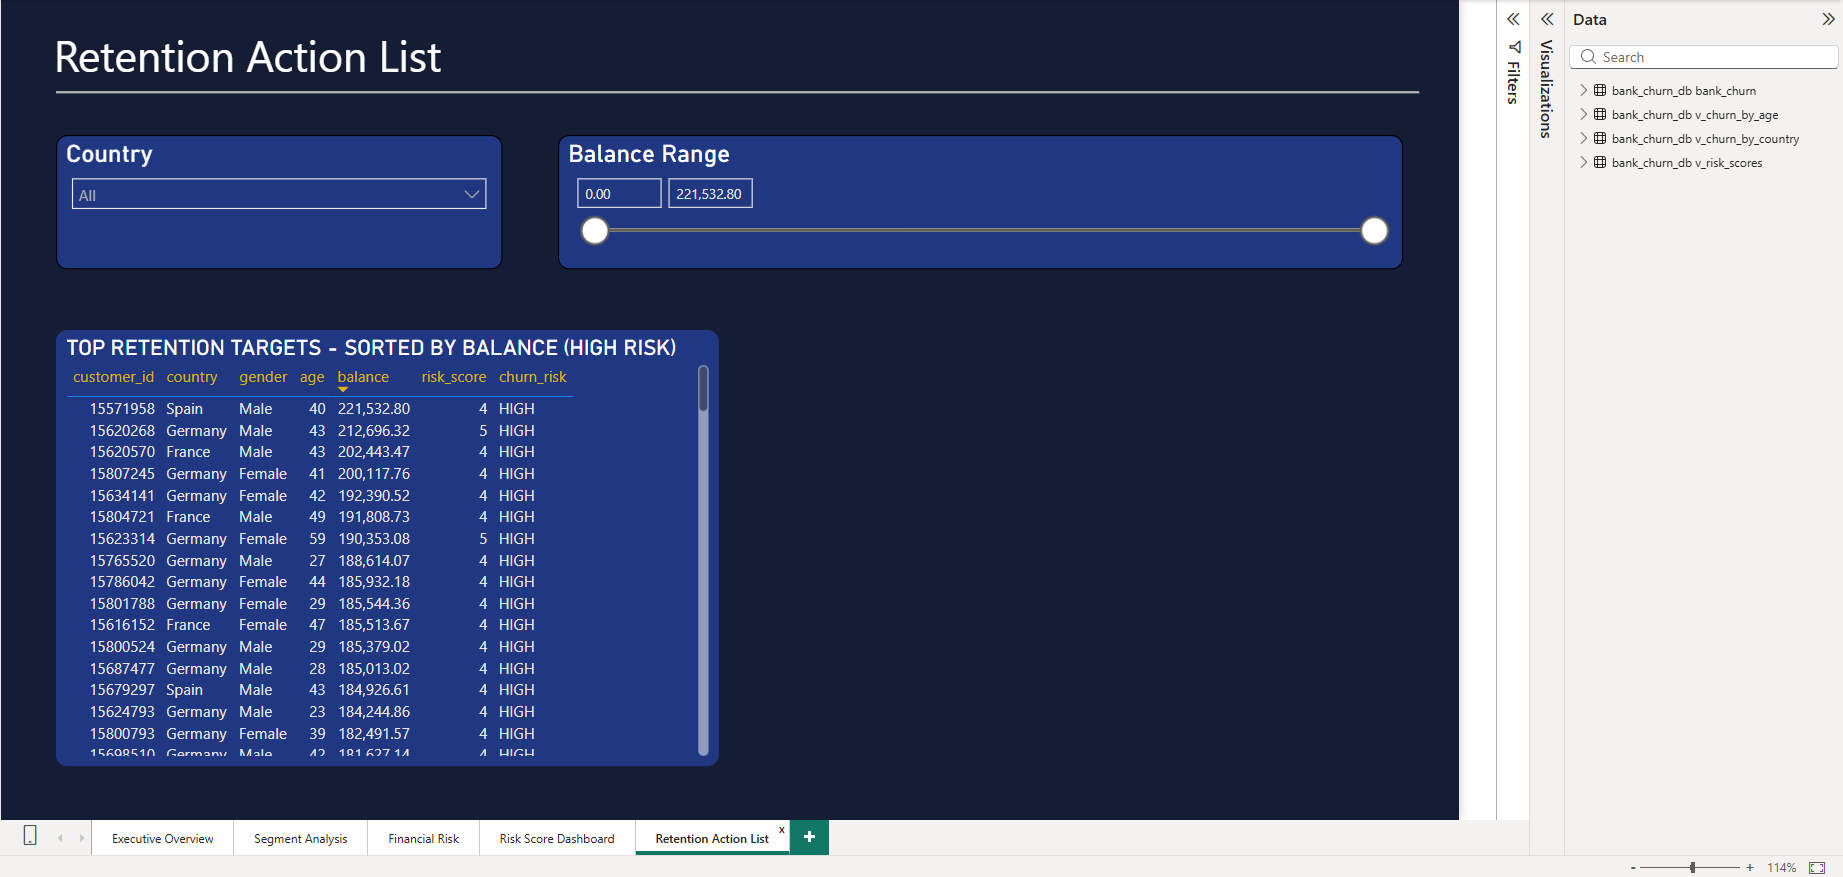

This screenshot's page, from the dashboard's own definition file:
{"tool":"powerbi","page":{"name":"Retention Action List","canvas":[1280,720],"ordinal":4},"visuals":[{"type":"tableEx","title":"TOP RETENTION TARGETS - SORTED BY BALANCE (HIGH RISK)","fields":{"Values":["bank_churn_db v_risk_scores.customer_id","bank_churn_db v_risk_scores.country","bank_churn_db v_risk_scores.gender","bank_churn_db v_risk_scores.age","bank_churn_db v_risk_scores.balance","bank_churn_db v_risk_scores.risk_score","bank_churn_db v_risk_scores.churn_risk"]},"box":[48.6,289.8,581.6,383.2],"z":0},{"type":"slicer","title":"Country","fields":{"Values":["bank_churn_db v_risk_scores.country"]},"box":[48.6,118.7,392,117.7],"z":1000},{"type":"slicer","title":"Balance Range","fields":{"Values":["bank_churn_db v_risk_scores.balance"]},"box":[489.2,118.7,742.1,117.7],"z":2000},{"type":"textbox","box":[40.9,18.5,359.9,59.3],"z":3000},{"type":"shape","box":[48.6,47.7,1197.3,67.1],"z":4000}]}

Visuals, with their boxes on the page's 1280x720 design canvas (x1, y1, x2, y2). These are canvas units, not pixel positions in the 1843x877 screenshot, which may show the page scaled, cropped or inside an application window:
"TOP RETENTION TARGETS - SORTED BY BALANCE (HIGH RISK)" tableEx: [49,290,630,673]
"Country" slicer: [49,119,441,236]
"Balance Range" slicer: [489,119,1231,236]
textbox: [41,18,401,78]
shape: [49,48,1246,115]
